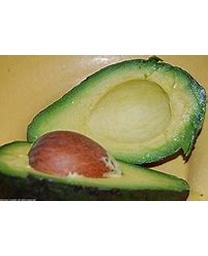avocado: (26, 59, 205, 168), (1, 135, 191, 201)
